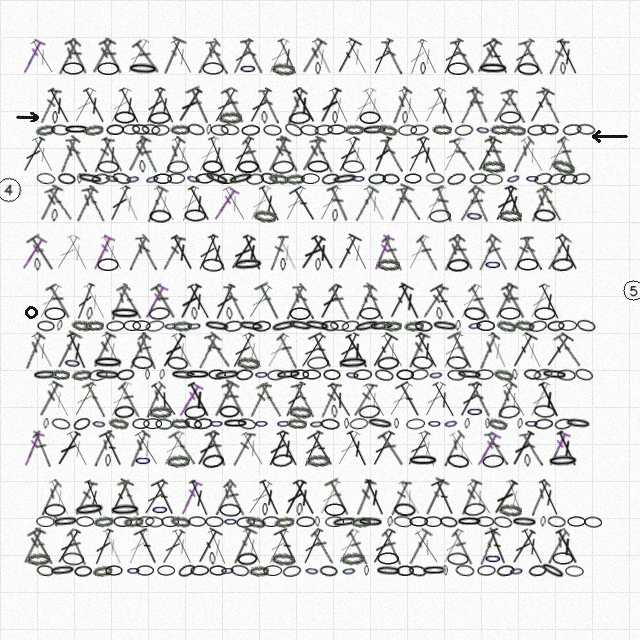chain: (538, 560, 567, 582), (73, 501, 106, 518), (202, 169, 231, 188), (550, 157, 576, 176), (232, 257, 264, 272), (227, 170, 255, 187), (127, 62, 159, 76), (270, 318, 298, 334), (353, 318, 381, 334), (337, 356, 369, 370), (547, 454, 579, 468), (109, 503, 141, 517), (76, 171, 104, 186), (286, 318, 314, 333), (303, 318, 331, 333), (366, 416, 394, 431), (477, 62, 509, 75), (109, 307, 141, 320), (92, 356, 124, 369), (407, 454, 439, 467), (331, 172, 359, 186), (203, 319, 231, 333), (237, 319, 265, 333), (431, 319, 459, 333), (213, 368, 241, 382), (331, 515, 359, 529), (201, 453, 225, 469), (446, 453, 470, 469), (283, 121, 304, 139), (340, 551, 365, 566), (166, 355, 189, 371), (498, 404, 521, 420), (564, 417, 592, 430), (275, 368, 302, 381), (456, 368, 483, 381), (541, 368, 568, 381), (52, 515, 79, 528), (49, 564, 76, 577), (533, 208, 556, 223), (551, 257, 574, 272), (148, 306, 171, 321), (463, 306, 486, 321), (131, 355, 154, 370), (411, 355, 434, 370), (446, 355, 469, 370), (358, 404, 381, 419), (533, 404, 556, 419), (271, 453, 294, 468), (393, 502, 416, 517), (463, 502, 486, 517), (72, 415, 92, 432), (177, 562, 197, 579), (271, 62, 295, 76), (446, 171, 467, 187), (253, 209, 277, 223), (236, 356, 260, 370), (148, 405, 172, 419), (288, 405, 312, 419), (166, 454, 190, 468), (498, 503, 522, 517), (26, 552, 50, 566), (271, 552, 295, 566), (361, 124, 388, 136), (368, 320, 395, 332), (32, 369, 59, 381), (94, 369, 121, 381), (170, 369, 197, 381), (357, 516, 384, 528), (511, 516, 538, 528), (375, 565, 402, 577), (148, 111, 171, 125), (288, 111, 311, 125), (201, 258, 224, 272), (547, 171, 567, 187), (111, 171, 132, 186), (533, 171, 554, 186), (218, 111, 242, 124), (481, 160, 505, 173), (498, 209, 522, 222), (376, 258, 400, 271), (306, 454, 330, 467), (517, 62, 539, 76), (97, 160, 119, 174), (167, 160, 189, 174), (272, 160, 294, 174), (149, 209, 171, 223), (429, 209, 451, 223), (447, 258, 469, 272), (307, 356, 329, 370), (377, 356, 399, 370), (184, 405, 206, 419), (482, 454, 504, 468), (44, 503, 66, 517), (219, 503, 241, 517), (62, 552, 84, 566), (447, 552, 469, 566), (186, 122, 206, 137), (259, 171, 279, 186), (576, 318, 596, 333), (533, 367, 553, 382), (574, 367, 594, 382), (183, 416, 203, 431), (63, 124, 90, 135), (184, 369, 211, 380), (222, 418, 249, 429), (456, 516, 483, 527), (421, 565, 448, 576), (35, 123, 56, 137), (83, 123, 104, 137), (377, 123, 398, 137), (496, 319, 517, 333), (71, 368, 92, 382), (493, 368, 514, 382), (114, 405, 135, 419), (487, 417, 508, 431), (245, 515, 266, 529), (274, 515, 295, 529), (237, 552, 258, 566), (92, 564, 113, 578), (62, 62, 84, 75), (97, 62, 119, 75), (202, 62, 224, 75), (447, 62, 469, 75), (114, 111, 136, 124), (359, 111, 381, 124), (499, 111, 521, 124), (237, 160, 259, 173), (307, 160, 329, 173), (342, 160, 364, 173), (184, 209, 206, 222), (97, 258, 119, 271), (517, 258, 539, 271), (44, 307, 66, 320), (289, 307, 311, 320), (359, 307, 381, 320), (499, 307, 521, 320), (534, 307, 556, 320), (324, 503, 346, 516), (377, 552, 399, 565), (552, 552, 574, 565), (145, 319, 165, 333), (223, 319, 243, 333), (528, 319, 548, 333), (88, 368, 108, 382), (374, 368, 394, 382), (51, 417, 71, 431), (237, 417, 257, 431), (493, 515, 513, 529), (282, 564, 302, 578), (202, 160, 223, 173), (268, 172, 289, 185), (71, 319, 92, 332), (514, 319, 535, 332), (219, 405, 240, 418), (108, 417, 129, 430), (93, 515, 114, 528), (123, 515, 144, 528), (170, 515, 191, 528), (321, 172, 340, 186), (465, 209, 484, 223), (341, 319, 360, 333), (63, 356, 82, 370), (554, 417, 573, 431), (439, 515, 458, 529), (408, 564, 427, 578), (141, 123, 161, 136), (220, 123, 240, 136), (562, 123, 582, 136), (576, 123, 596, 136), (36, 172, 56, 185), (425, 172, 445, 185), (193, 417, 213, 430), (349, 417, 369, 430), (135, 515, 155, 528), (393, 515, 413, 528), (230, 564, 250, 577), (455, 564, 475, 577), (505, 171, 522, 186), (131, 123, 150, 136), (540, 123, 559, 136), (57, 172, 76, 185), (469, 172, 488, 185), (572, 172, 591, 185), (116, 368, 135, 381), (235, 368, 254, 381), (410, 368, 429, 381), (523, 368, 542, 381), (547, 515, 566, 528), (36, 564, 55, 577), (496, 564, 515, 577), (528, 564, 547, 577), (314, 124, 334, 136), (454, 124, 474, 136), (506, 124, 526, 136), (91, 173, 111, 185), (285, 173, 305, 185), (172, 320, 192, 332), (382, 320, 402, 332), (404, 320, 424, 332), (320, 418, 340, 430), (351, 516, 371, 528), (249, 565, 269, 577), (144, 172, 161, 186), (185, 172, 202, 186), (239, 62, 257, 75), (484, 258, 502, 271), (466, 405, 484, 418), (134, 454, 152, 467), (151, 503, 169, 516), (484, 552, 502, 565), (51, 124, 70, 136), (151, 124, 170, 136), (210, 124, 229, 136), (241, 124, 260, 136), (263, 124, 282, 136), (300, 124, 319, 136), (398, 124, 417, 136), (410, 124, 429, 136), (527, 124, 546, 136), (484, 173, 503, 185), (106, 320, 125, 332), (252, 320, 271, 332), (414, 320, 433, 332), (267, 369, 286, 381), (447, 369, 466, 381), (557, 369, 576, 381), (406, 418, 425, 430), (534, 418, 553, 430), (145, 516, 164, 528), (236, 516, 255, 528), (319, 565, 338, 577), (565, 565, 584, 577), (170, 124, 190, 135), (344, 124, 364, 135), (432, 124, 452, 135), (490, 124, 510, 135), (84, 320, 104, 331), (50, 369, 70, 380), (170, 418, 190, 429), (287, 418, 307, 429), (246, 173, 264, 185), (368, 173, 386, 185), (382, 173, 400, 185), (560, 173, 578, 185), (37, 320, 55, 332), (321, 320, 339, 332), (547, 320, 565, 332), (155, 418, 173, 430), (584, 516, 602, 528), (74, 565, 92, 577), (327, 124, 346, 135), (153, 173, 172, 184), (195, 173, 214, 184), (217, 173, 236, 184), (301, 173, 320, 184), (132, 320, 151, 331), (330, 320, 349, 331), (476, 320, 495, 331), (558, 320, 577, 331), (290, 369, 309, 380), (302, 369, 321, 380), (353, 369, 372, 380), (475, 369, 494, 380), (143, 418, 162, 429), (36, 516, 55, 527), (113, 516, 132, 527), (205, 516, 224, 527), (296, 516, 315, 527), (325, 516, 344, 527), (409, 516, 428, 527), (567, 516, 586, 527), (190, 565, 209, 576), (263, 565, 282, 576), (477, 565, 496, 576), (104, 172, 120, 185), (467, 319, 483, 332), (443, 417, 459, 430), (106, 124, 124, 135), (122, 124, 140, 135), (167, 173, 185, 184), (404, 173, 422, 184), (123, 320, 141, 331), (208, 369, 226, 380), (323, 369, 341, 380), (396, 369, 414, 380), (132, 418, 150, 429), (76, 516, 94, 527), (161, 516, 179, 527), (188, 516, 206, 527), (262, 516, 280, 527), (424, 516, 442, 527), (476, 516, 494, 527), (105, 565, 123, 576), (136, 565, 154, 576), (157, 565, 175, 576), (209, 565, 227, 576), (396, 565, 414, 576), (475, 124, 491, 136), (125, 173, 141, 185), (163, 320, 179, 332), (428, 369, 444, 381), (91, 418, 107, 430), (304, 565, 320, 577), (341, 565, 357, 577), (187, 320, 202, 332), (345, 369, 360, 381), (309, 418, 324, 430), (509, 565, 524, 577), (351, 173, 366, 184), (525, 173, 540, 184), (254, 369, 269, 380), (209, 418, 224, 429), (254, 418, 269, 429), (276, 418, 291, 429), (427, 418, 442, 429), (524, 418, 539, 429), (223, 516, 238, 527), (126, 565, 141, 576), (220, 565, 235, 576), (261, 111, 268, 124), (139, 160, 146, 173), (51, 209, 58, 222), (34, 258, 41, 271), (86, 307, 93, 320), (191, 307, 198, 320), (226, 307, 233, 320), (436, 307, 443, 320), (331, 405, 338, 418), (524, 454, 531, 467), (296, 503, 303, 516), (209, 552, 216, 565), (315, 62, 321, 75), (420, 62, 426, 75), (560, 62, 566, 75), (52, 111, 58, 124), (332, 111, 338, 124), (402, 111, 408, 124), (332, 209, 338, 222), (280, 258, 286, 271), (315, 258, 321, 271), (105, 454, 111, 467), (262, 503, 268, 516), (56, 320, 63, 331), (206, 124, 212, 135), (455, 320, 461, 331), (159, 369, 165, 380), (512, 369, 518, 380), (43, 418, 49, 429), (464, 418, 470, 429), (517, 418, 523, 429), (53, 516, 59, 527), (387, 516, 393, 527), (540, 516, 546, 527), (77, 173, 82, 184), (145, 369, 150, 380), (344, 418, 349, 429), (394, 418, 399, 429), (485, 418, 490, 429), (315, 516, 320, 527), (364, 565, 369, 576), (443, 565, 448, 576)
double: (541, 331, 575, 371), (288, 184, 321, 224), (26, 233, 59, 273), (306, 429, 339, 469), (394, 379, 426, 420), (192, 526, 224, 567), (482, 37, 514, 77), (524, 86, 556, 126), (429, 282, 461, 322), (367, 331, 399, 371), (507, 331, 539, 371), (27, 527, 59, 567), (332, 36, 363, 77), (472, 134, 503, 175), (332, 232, 363, 273), (254, 281, 285, 322), (384, 281, 415, 322), (52, 330, 83, 371), (307, 330, 338, 371), (447, 330, 478, 371), (209, 379, 240, 420), (324, 477, 355, 518), (131, 38, 164, 76), (44, 184, 76, 223), (454, 184, 486, 223), (552, 331, 584, 370), (167, 429, 199, 468), (185, 85, 215, 126), (385, 183, 415, 224), (98, 428, 128, 469), (105, 477, 135, 518), (150, 477, 180, 518), (420, 477, 450, 518), (430, 477, 460, 518), (133, 526, 163, 567), (228, 526, 258, 567), (273, 526, 303, 567), (464, 479, 496, 517), (174, 86, 205, 125), (349, 184, 380, 223), (52, 233, 83, 272), (542, 233, 573, 272), (132, 429, 163, 468), (455, 86, 485, 126), (500, 86, 530, 126), (535, 184, 565, 224), (473, 233, 503, 273), (115, 282, 145, 322), (193, 331, 223, 371), (255, 380, 285, 420), (158, 36, 187, 77), (227, 234, 258, 272), (297, 234, 328, 272), (244, 283, 275, 321), (297, 332, 328, 370), (377, 430, 408, 468), (447, 430, 478, 468), (244, 479, 275, 517), (412, 528, 443, 566), (28, 37, 58, 76), (298, 37, 328, 76), (473, 37, 503, 76), (210, 86, 240, 125), (220, 184, 250, 223), (308, 233, 338, 272), (448, 233, 478, 272), (45, 282, 75, 321), (150, 282, 180, 321), (500, 282, 530, 321), (158, 331, 188, 370), (378, 331, 408, 370), (385, 380, 415, 419), (53, 429, 83, 468), (238, 429, 268, 468), (333, 429, 363, 468), (403, 429, 433, 468), (140, 478, 170, 517), (490, 478, 520, 517), (53, 527, 83, 566), (368, 527, 398, 566), (403, 527, 433, 566), (518, 37, 547, 77), (350, 282, 379, 322), (290, 380, 319, 420), (484, 526, 512, 567), (149, 381, 180, 418), (210, 185, 240, 223), (18, 234, 48, 272), (325, 381, 355, 419), (508, 528, 538, 566), (88, 37, 117, 76), (98, 37, 127, 76), (123, 37, 152, 76), (168, 37, 197, 76), (343, 37, 372, 76), (45, 86, 74, 125), (70, 86, 99, 125), (80, 86, 109, 125), (220, 86, 249, 125), (245, 86, 274, 125), (290, 86, 319, 125), (350, 86, 379, 125), (360, 86, 389, 125), (420, 86, 449, 125), (298, 135, 327, 174), (343, 135, 372, 174), (543, 135, 572, 174), (185, 184, 214, 223), (315, 184, 344, 223), (98, 233, 127, 272), (168, 233, 197, 272), (553, 233, 582, 272), (35, 282, 64, 321), (185, 282, 214, 321), (168, 331, 197, 370), (228, 331, 257, 370), (413, 331, 442, 370), (35, 380, 64, 419), (45, 380, 74, 419), (70, 380, 99, 419), (185, 380, 214, 419), (420, 380, 449, 419), (430, 380, 459, 419), (193, 429, 222, 468), (368, 429, 397, 468), (508, 429, 537, 468), (290, 478, 319, 517), (553, 527, 582, 566), (536, 86, 564, 126), (309, 135, 337, 175), (81, 184, 109, 224), (141, 184, 169, 224), (81, 380, 109, 420), (474, 527, 502, 567), (53, 38, 82, 76), (518, 136, 547, 174), (263, 332, 292, 370), (343, 332, 372, 370), (175, 381, 204, 419), (360, 381, 389, 419), (500, 381, 529, 419), (473, 430, 502, 468), (158, 528, 187, 566), (64, 37, 92, 76), (264, 37, 292, 76), (414, 37, 442, 76), (509, 37, 537, 76), (554, 37, 582, 76), (106, 86, 134, 125), (116, 86, 144, 125), (316, 86, 344, 125), (396, 86, 424, 125), (19, 135, 47, 174), (29, 135, 57, 174), (99, 135, 127, 174), (124, 135, 152, 174), (169, 135, 197, 174), (194, 135, 222, 174), (229, 135, 257, 174), (264, 135, 292, 174), (334, 135, 362, 174), (404, 135, 432, 174), (439, 135, 467, 174), (36, 184, 64, 223), (151, 184, 179, 223), (246, 184, 274, 223), (256, 184, 284, 223), (281, 184, 309, 223), (361, 184, 389, 223), (421, 184, 449, 223), (491, 184, 519, 223), (64, 233, 92, 272), (344, 233, 372, 272), (404, 233, 432, 272), (81, 282, 109, 321), (141, 282, 169, 321), (176, 282, 204, 321), (316, 282, 344, 321), (396, 282, 424, 321), (456, 282, 484, 321), (491, 282, 519, 321), (536, 282, 564, 321), (29, 331, 57, 370), (89, 331, 117, 370), (239, 331, 267, 370), (334, 331, 362, 370), (106, 380, 134, 419), (221, 380, 249, 419), (456, 380, 484, 419), (64, 429, 92, 468), (159, 429, 187, 468), (274, 429, 302, 468), (46, 478, 74, 517), (281, 478, 309, 517), (396, 478, 424, 517), (19, 527, 47, 566), (334, 527, 362, 566), (439, 527, 467, 566), (519, 527, 547, 566), (414, 135, 441, 175), (211, 282, 238, 322), (64, 331, 91, 371), (404, 331, 431, 371), (299, 429, 326, 469), (116, 478, 143, 518), (186, 478, 213, 518), (420, 283, 449, 320), (449, 136, 477, 174), (71, 185, 99, 223), (124, 332, 152, 370), (204, 332, 232, 370), (19, 37, 46, 76), (229, 37, 256, 76), (309, 37, 336, 76), (369, 37, 396, 76), (439, 37, 466, 76), (326, 86, 353, 125), (431, 86, 458, 125), (466, 86, 493, 125), (484, 135, 511, 174), (106, 184, 133, 223), (326, 184, 353, 223), (89, 233, 116, 272), (194, 233, 221, 272), (274, 233, 301, 272), (526, 282, 553, 321), (99, 331, 126, 370), (439, 331, 466, 370), (519, 331, 546, 370), (281, 380, 308, 419), (526, 380, 553, 419), (536, 380, 563, 419), (204, 429, 231, 468), (264, 429, 291, 468), (344, 429, 371, 468), (554, 429, 581, 468), (316, 478, 343, 517), (536, 478, 563, 517), (124, 527, 151, 566), (169, 527, 196, 566), (264, 527, 291, 566), (299, 527, 326, 566), (205, 135, 231, 175), (457, 478, 483, 518), (90, 527, 116, 567), (205, 527, 231, 567), (194, 38, 222, 75), (309, 528, 337, 565), (509, 136, 536, 174), (526, 185, 553, 223), (439, 234, 466, 272), (474, 332, 501, 370), (519, 430, 546, 468), (211, 479, 238, 517), (275, 37, 301, 76), (142, 86, 168, 125), (152, 86, 178, 125), (387, 86, 413, 125), (55, 135, 81, 174), (117, 184, 143, 223), (485, 331, 511, 370), (492, 380, 518, 419), (545, 429, 571, 468), (177, 478, 203, 517), (257, 478, 283, 517), (362, 478, 388, 517), (100, 527, 126, 566), (405, 37, 430, 77), (177, 184, 202, 224), (432, 184, 457, 224), (502, 184, 527, 224), (205, 233, 230, 273), (415, 429, 440, 469), (82, 478, 107, 518), (352, 478, 377, 518), (491, 87, 518, 124), (396, 185, 423, 222), (484, 234, 511, 271), (351, 381, 378, 418), (484, 430, 511, 467), (544, 528, 571, 565), (205, 38, 231, 76), (450, 38, 476, 76), (282, 87, 308, 125), (135, 136, 161, 174), (160, 136, 186, 174), (240, 136, 266, 174), (380, 136, 406, 174), (125, 234, 151, 272), (160, 234, 186, 272), (380, 234, 406, 272), (415, 234, 441, 272), (282, 283, 308, 321), (327, 283, 353, 321), (467, 283, 493, 321), (20, 332, 46, 370), (275, 332, 301, 370), (117, 381, 143, 419), (90, 430, 116, 468), (125, 430, 151, 468), (230, 430, 256, 468), (440, 430, 466, 468), (37, 479, 63, 517), (72, 479, 98, 517), (222, 479, 248, 517), (345, 528, 371, 566), (450, 528, 476, 566), (240, 37, 265, 76), (370, 135, 395, 174), (240, 233, 265, 272), (370, 233, 395, 272), (20, 429, 45, 468), (240, 527, 265, 566), (37, 87, 62, 125), (65, 136, 90, 174), (467, 185, 492, 223), (135, 234, 160, 272), (520, 234, 545, 272), (107, 283, 132, 321), (292, 283, 317, 321), (142, 381, 167, 419), (247, 381, 272, 419), (527, 479, 552, 517), (65, 528, 90, 566), (380, 528, 405, 566), (276, 135, 300, 174), (73, 282, 97, 321), (468, 380, 492, 419), (503, 478, 527, 517), (381, 38, 405, 76), (546, 38, 570, 76), (258, 87, 282, 125), (91, 136, 115, 174), (223, 283, 247, 321), (136, 332, 160, 370), (318, 381, 342, 419), (31, 430, 55, 468), (388, 479, 412, 517), (556, 135, 579, 174), (363, 282, 386, 321), (511, 234, 534, 272), (267, 233, 289, 272)
noise: (0, 175, 23, 204), (589, 129, 628, 144), (621, 278, 640, 303), (15, 112, 41, 122), (24, 305, 39, 320)
